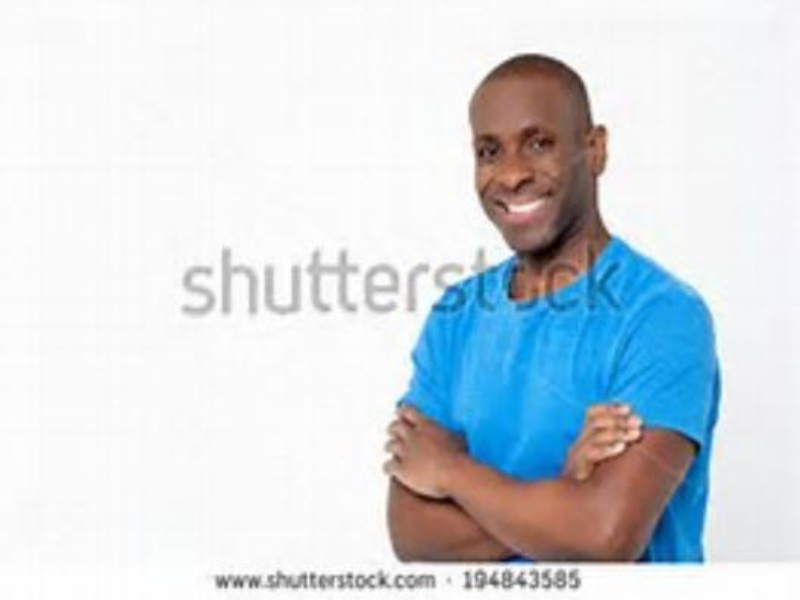TsisyArotava: (448, 48, 604, 266)
